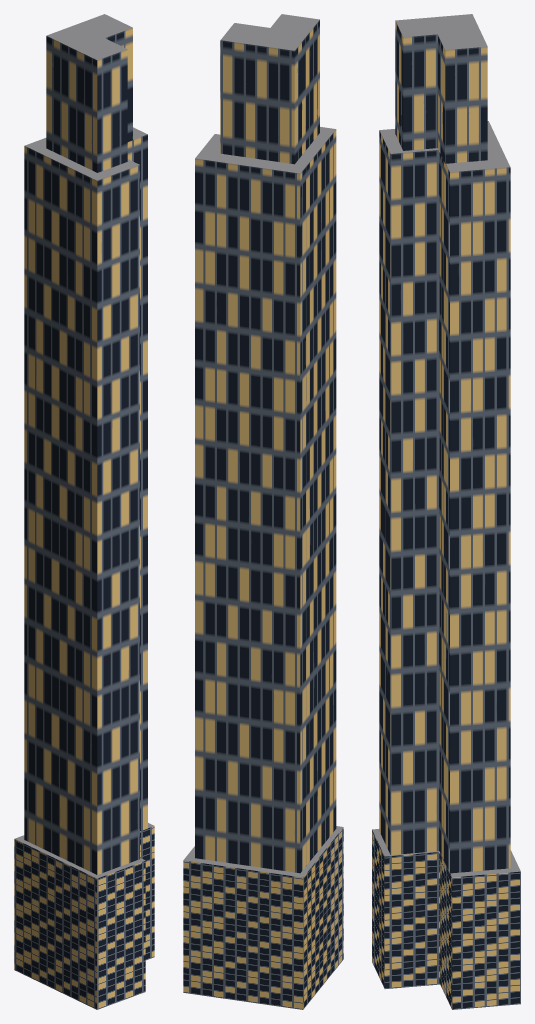
File: harcourt-tower.glb
3 views of the same model, side by side, from view 1: azimuth 30°, elevation 25°; view 2: azimuth 150°, elevation 25°; view 3: azimuth 270°, elevation 25° (orthographic).
Parts seen in each view (by area): view 1: harcourt-tower; view 2: harcourt-tower; view 3: harcourt-tower.
Part boxes in pixels (x1,y1,x2,y2): harcourt-tower: [14, 14, 154, 1009]; harcourt-tower: [183, 14, 343, 1009]; harcourt-tower: [372, 14, 520, 1009].
Size of the model in its own units: 0.3243 by 2.46 by 0.3499.
2 materials, 1 textured.
